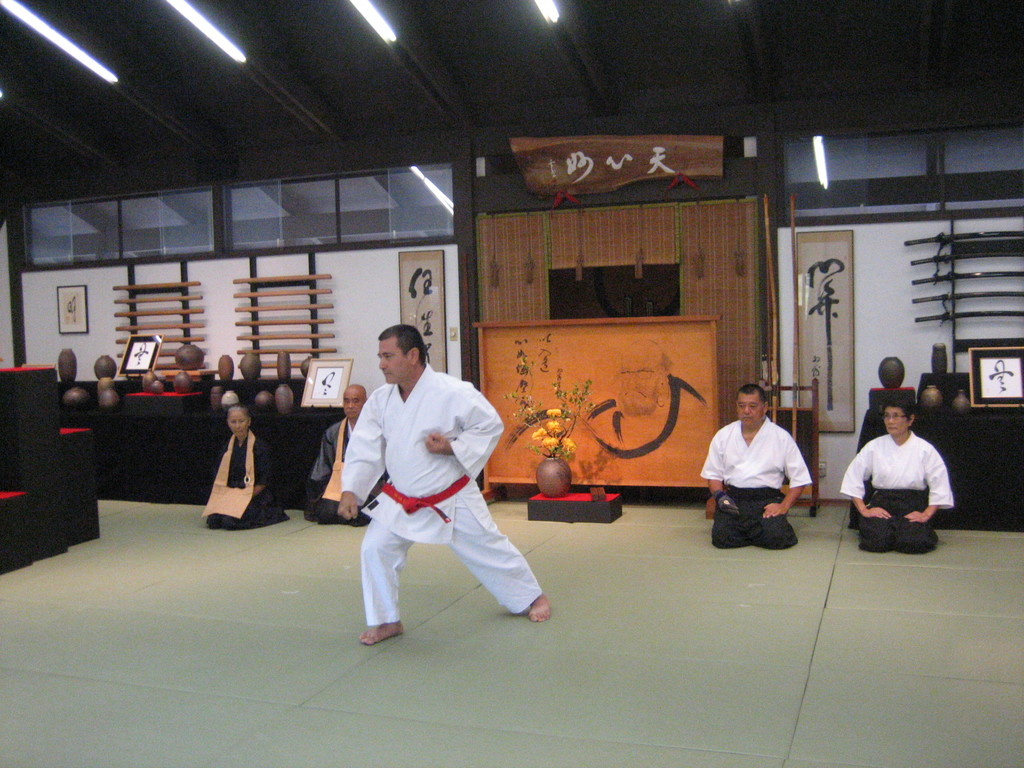Person: (838, 398, 953, 552), (200, 402, 288, 530)
